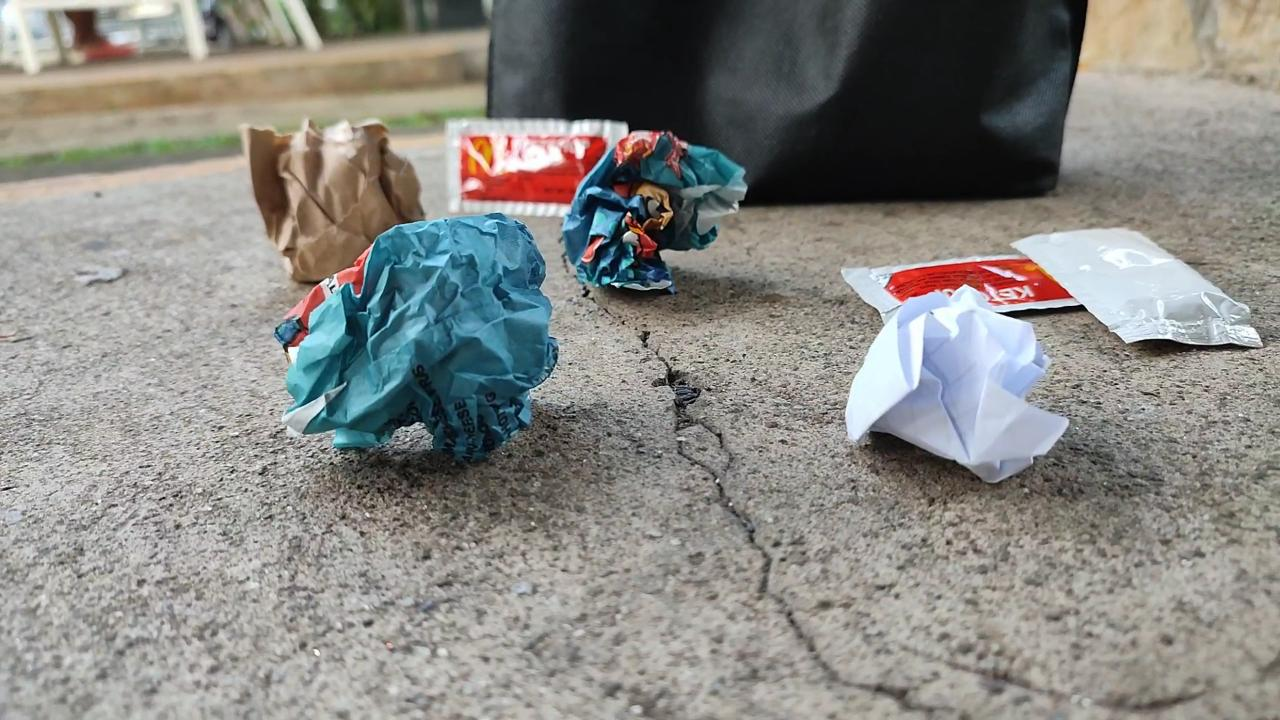Paper: (274, 199, 569, 479), (839, 288, 1064, 483), (219, 97, 437, 282), (566, 134, 736, 290)
